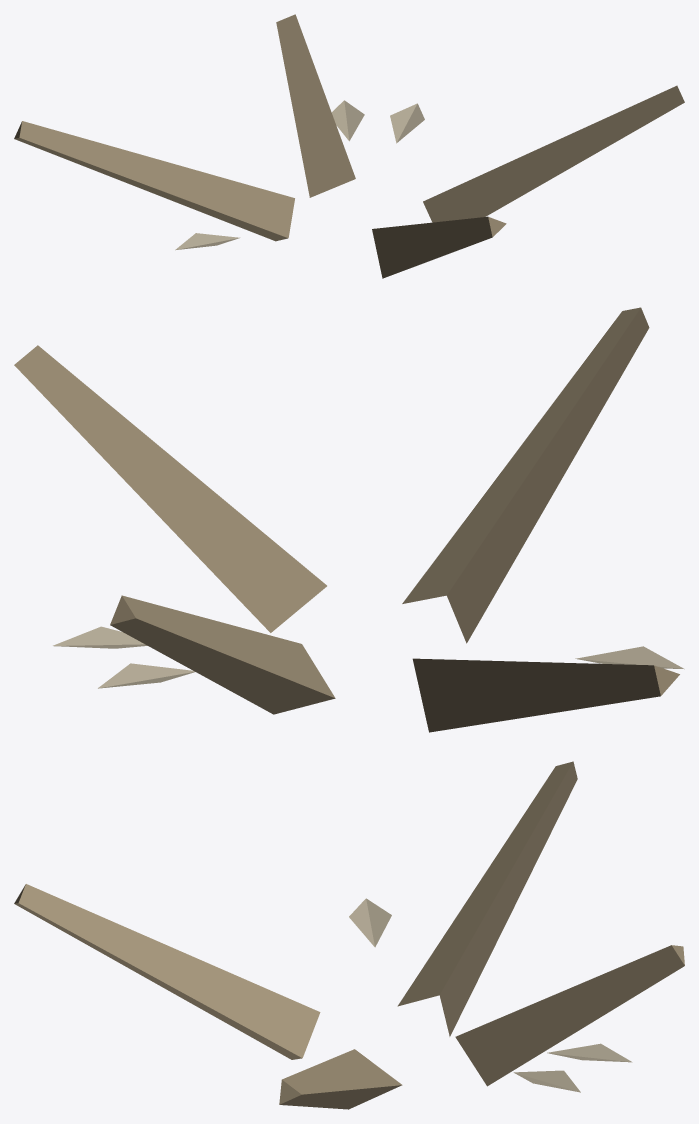
The model's file is guan.aili@withered__winter.glb.
3 renders of one model, top to bottom at view 1: azimuth 30°, elevation 25°; view 2: azimuth 150°, elevation 25°; view 3: azimuth 270°, elevation 25°, orthographic. The views are drawn at different scales.
Parts seen in each view (by area): view 1: guan.aili@withered__winter; view 2: guan.aili@withered__winter; view 3: guan.aili@withered__winter.
Boxes of the visible parts, x1,y1,x2,y2 form: guan.aili@withered__winter: (14,14,684,278); guan.aili@withered__winter: (14,307,684,732); guan.aili@withered__winter: (14,761,684,1109).
Bounding box in the file's own units: 0.5417 × 0.1369 × 0.4773.
